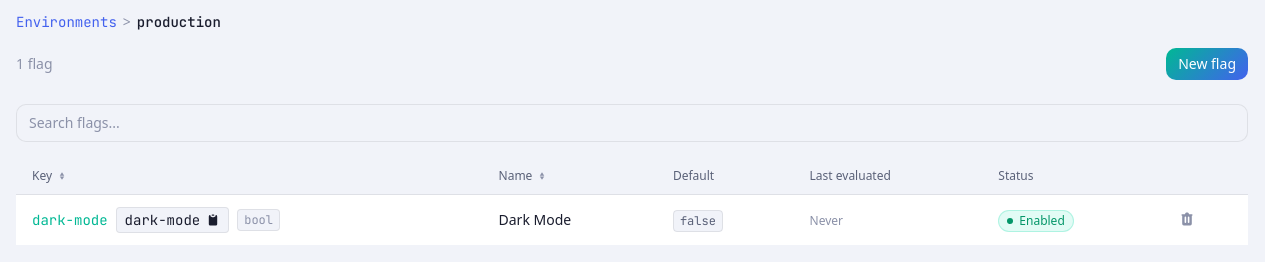
Scenario: useMemo dep array — toggleMutation primitives › memo recomputes when isPending flips — button is disabled during pending
Expected: the link "Dark Mode" is shown, [498,210,571,229]
Click the button with aria-label "disable flag" at (1036, 220), box [998,208,1074,232]
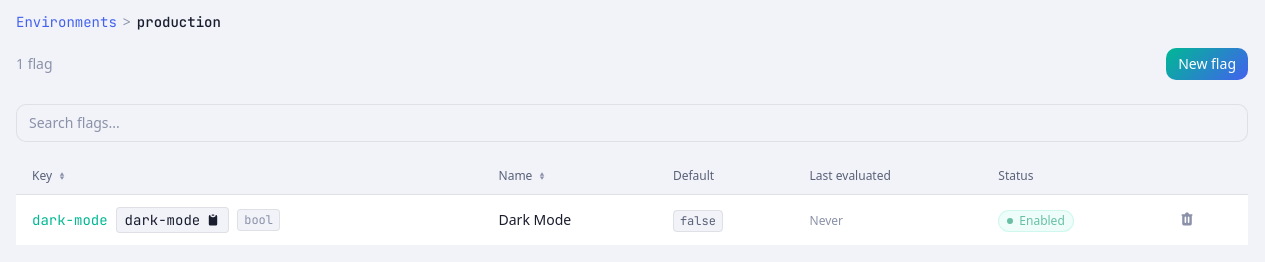
Expected: the button with aria-label "disable flag" is disabled, [998,208,1074,232]
